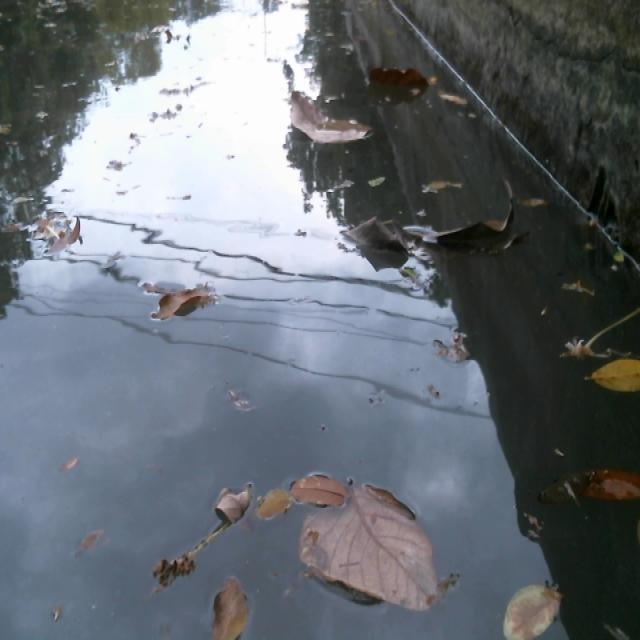Big-leaf: (298, 491, 445, 608), (277, 77, 372, 163), (428, 191, 522, 265), (333, 205, 418, 275), (366, 63, 434, 106)
Small-leaf: (535, 454, 640, 512), (493, 570, 569, 640), (558, 299, 640, 362), (143, 528, 205, 597), (150, 282, 222, 333), (200, 476, 255, 541), (212, 575, 256, 640), (33, 208, 85, 262), (587, 358, 640, 408), (286, 471, 346, 512), (419, 322, 468, 369), (72, 523, 108, 570), (162, 24, 205, 62), (254, 479, 287, 524), (423, 178, 469, 205), (441, 77, 472, 117), (521, 186, 548, 213), (62, 444, 77, 485)
